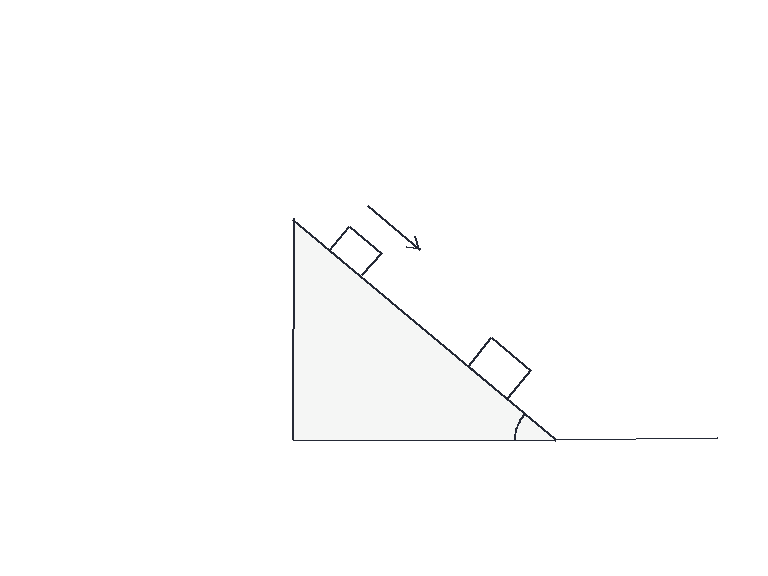block: (465, 335, 532, 400), (327, 224, 383, 278)
ramp: (291, 217, 557, 441)
